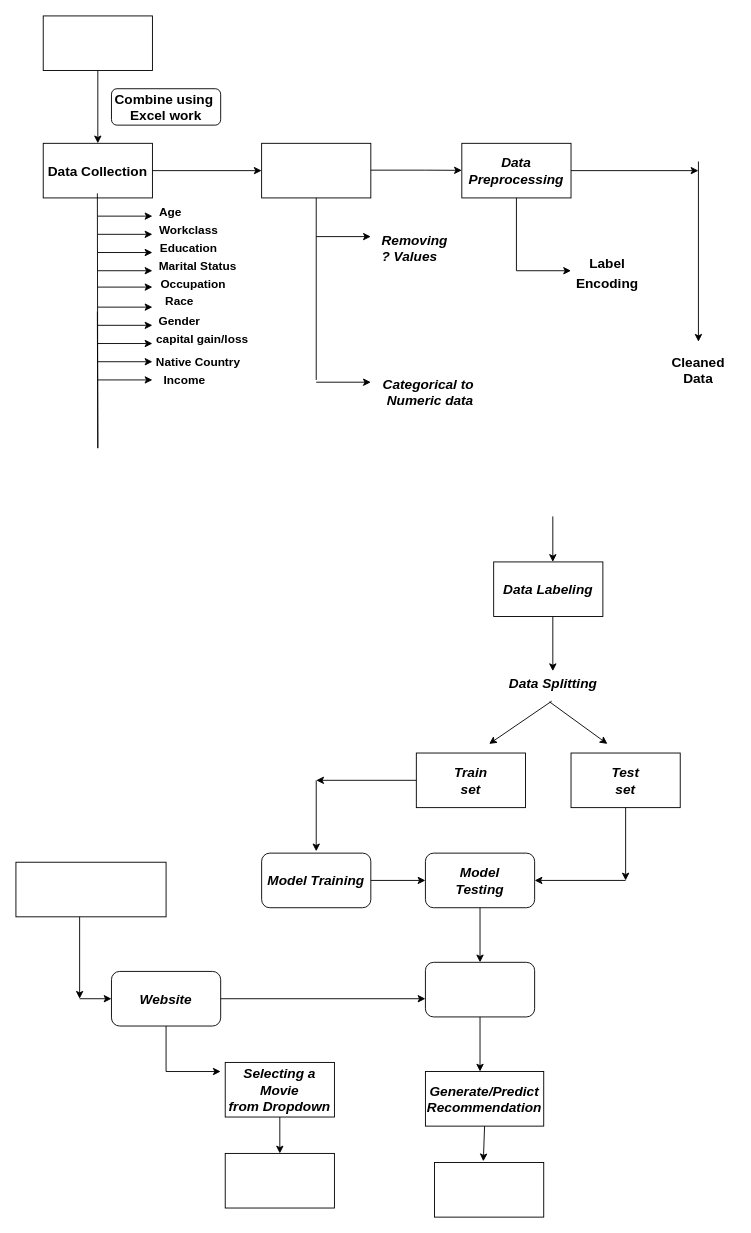
Some shapes in this 751 by 1233 pixel diagram are drawn without their labels. Each missing label, with the centre of its shape:
Data Cleaning: the point at 316,170
Display On the Webpage: the point at 489,1189
HTML,CSS,BootStrap, Flask,MySql: the point at 90,889
Model: the point at 480,989
Selects Genre And Rating: the point at 279,1180
Two Data Sets: the point at 97,43
